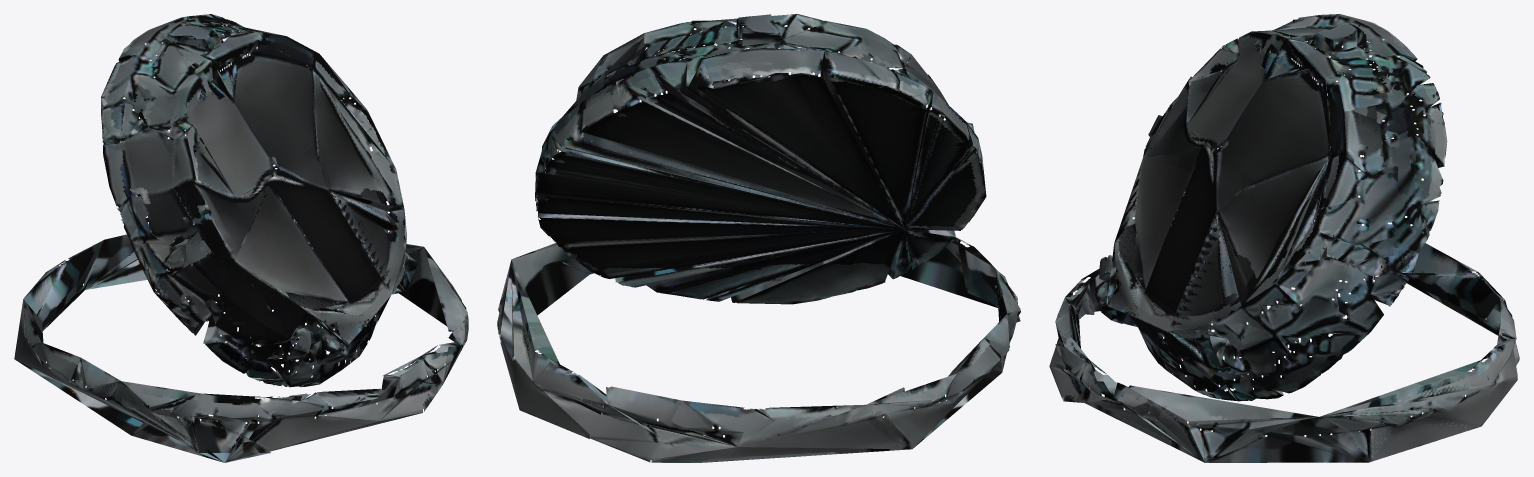
Rendered from Shield_Knight.glb.
3 renders of one model, left to right at view 1: azimuth 30°, elevation 25°; view 2: azimuth 150°, elevation 25°; view 3: azimuth 270°, elevation 25°, orthographic. The views are drawn at different scales.
Parts seen in each view (by area): view 1: temp_mesh.ply; view 2: temp_mesh.ply; view 3: temp_mesh.ply.
Part boxes in pixels (x1,y1,x2,y2): temp_mesh.ply: (14, 14, 468, 462); temp_mesh.ply: (497, 14, 1020, 462); temp_mesh.ply: (1049, 14, 1519, 462).
Bounding box in the file's own units: 0.6932 × 0.5445 × 0.7.
1 material, 1 textured.
